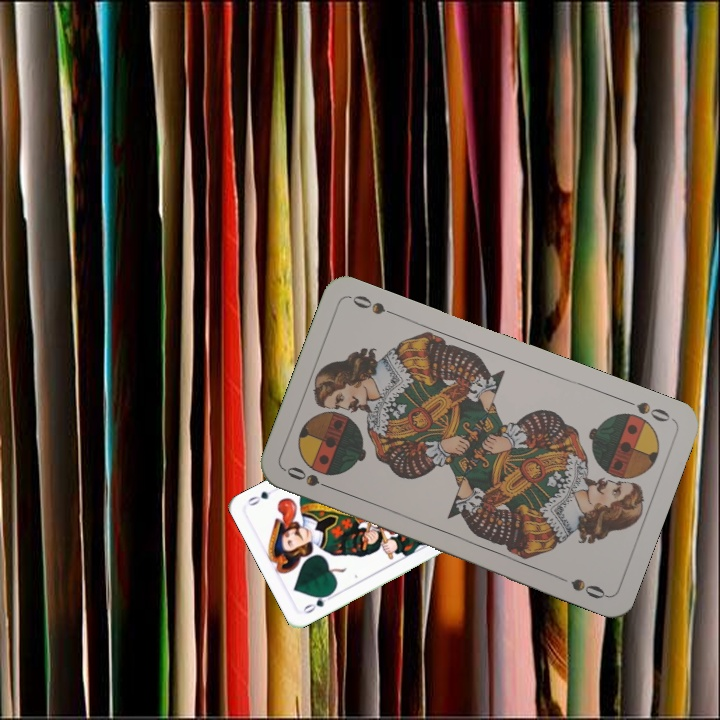GO: (298, 589, 336, 616)
SO: (282, 462, 339, 494), (619, 395, 676, 425)
